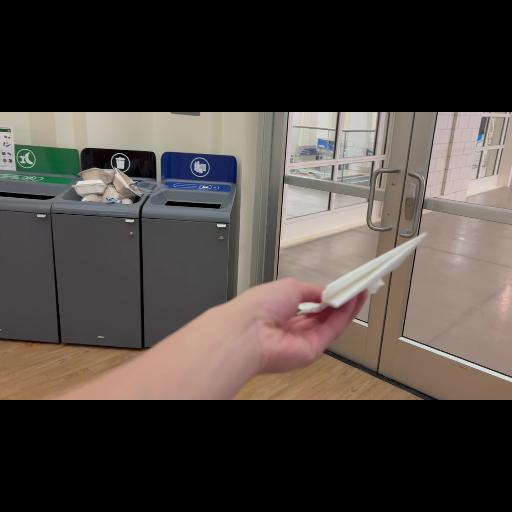napkin: (300, 234, 428, 306)
